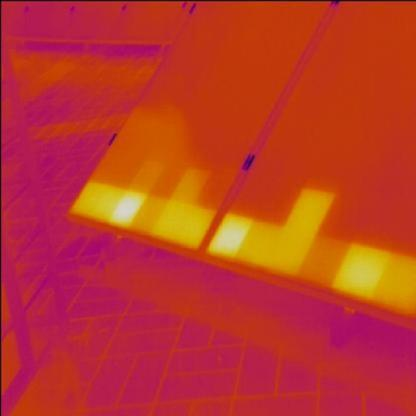anomaly: (217, 206, 416, 295), (71, 184, 210, 245)
